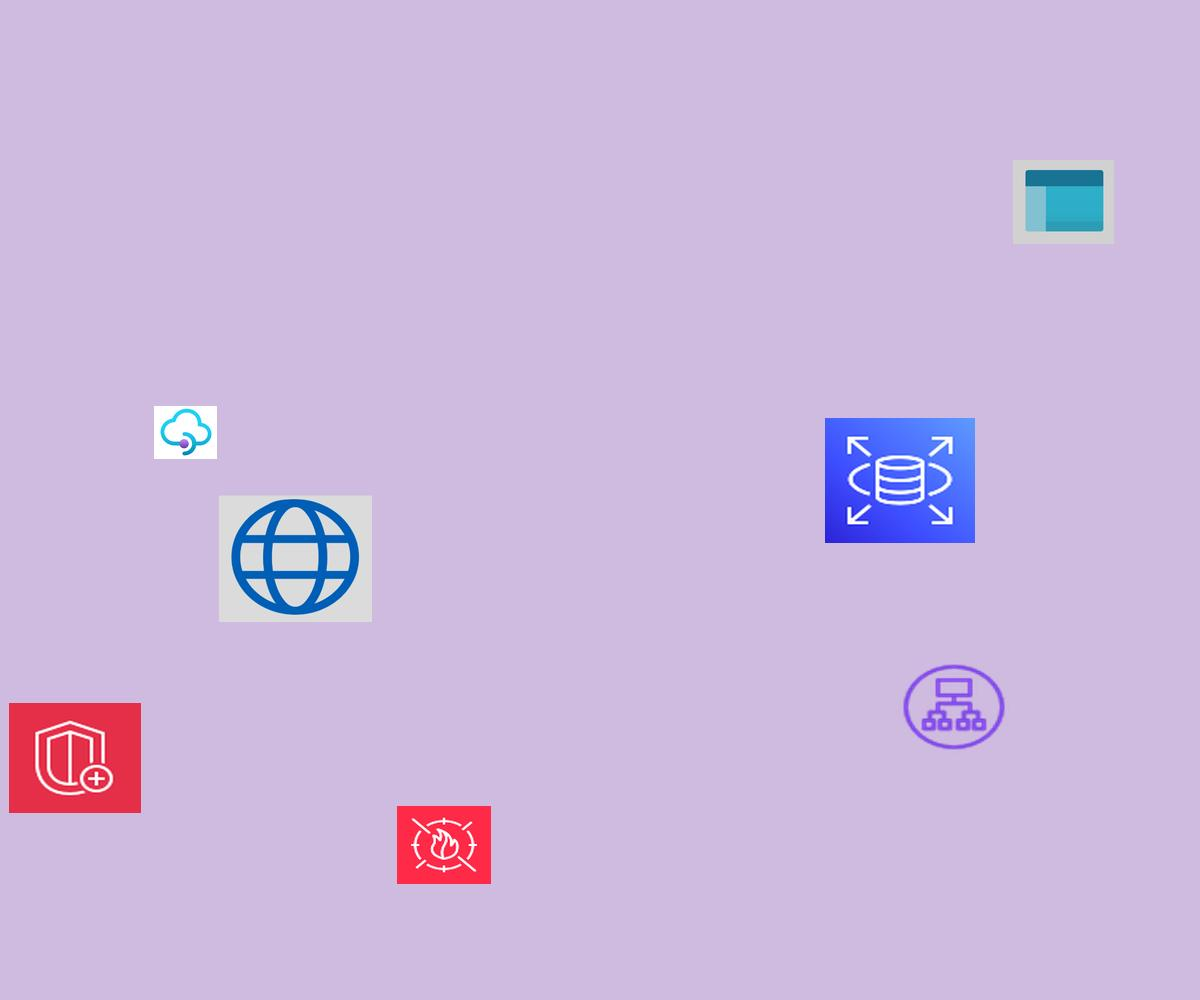AWS-RDS: (825, 418, 975, 543)
AWS-Res_Elastic-Load-Balancing_Application-Load-Balancer: (899, 661, 1009, 753)
AWS-Shield: (9, 703, 141, 813)
AWS-WAF: (397, 806, 491, 884)
Azure_api_gateway: (154, 406, 217, 459)
Azure_http: (219, 495, 372, 622)
Azure_management-portal: (1013, 160, 1114, 244)
